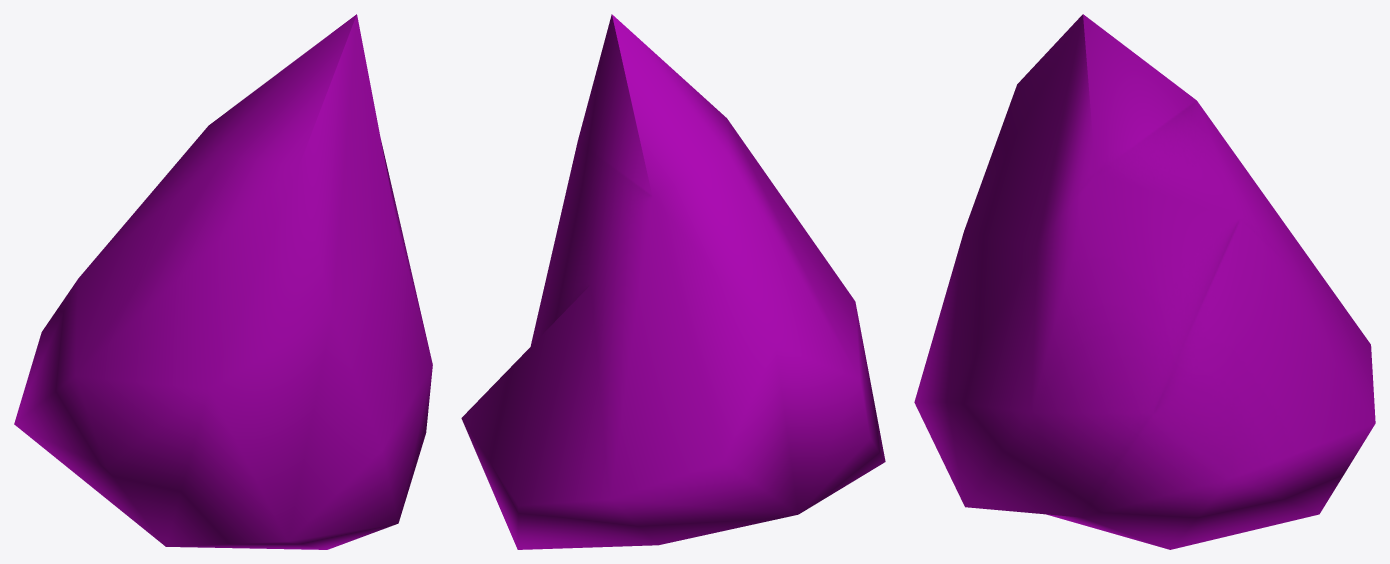
The model's file is Alchemy Crystal 13.fbx.
3 views of the same model, side by side, from view 1: azimuth 30°, elevation 25°; view 2: azimuth 150°, elevation 25°; view 3: azimuth 270°, elevation 25° (orthographic). The views are drawn at different scales.
Visible parts, largest first — view 1: Alchemy_Crystal_13; view 2: Alchemy_Crystal_13; view 3: Alchemy_Crystal_13.
Part boxes in pixels (x1,y1,x2,y2): Alchemy_Crystal_13: (14, 14, 432, 549); Alchemy_Crystal_13: (461, 14, 885, 549); Alchemy_Crystal_13: (914, 14, 1375, 549).
Bounding box in the file's own units: 7.55 × 9.86 × 7.89.
1 material, 1 textured.
